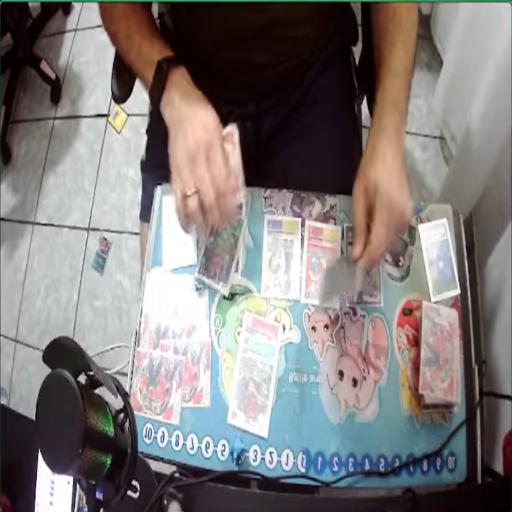card: (229, 338, 281, 436), (194, 214, 247, 296), (343, 220, 388, 310), (418, 214, 462, 304), (259, 216, 301, 304), (300, 227, 340, 308), (160, 194, 200, 272), (240, 310, 280, 340)
